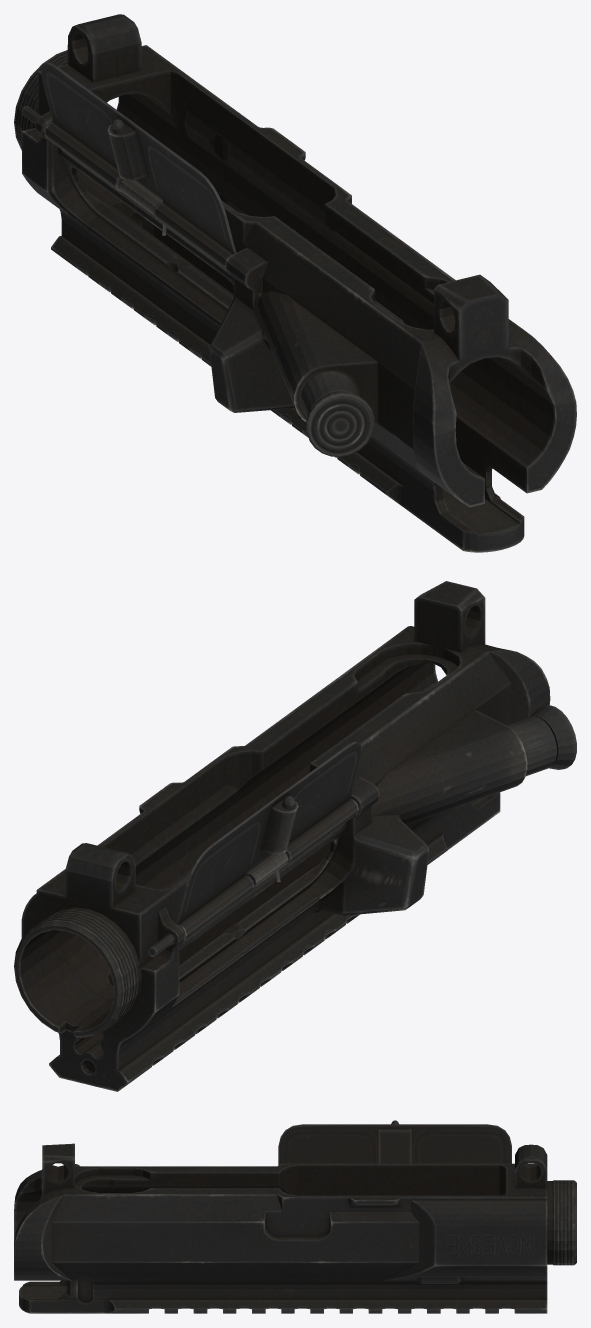
3 views of the same model, one above another, from view 1: azimuth 30°, elevation 25°; view 2: azimuth 150°, elevation 25°; view 3: azimuth 270°, elevation 25° (orthographic). The views are drawn at different scales.
Parts seen in each view (by area): view 1: TW_5c07a8770db8340023300450_PZ_Import; view 2: TW_5c07a8770db8340023300450_PZ_Import; view 3: TW_5c07a8770db8340023300450_PZ_Import.
Part boxes in pixels (x1=…): TW_5c07a8770db8340023300450_PZ_Import: x1=14, y1=14, x2=576, y2=552; TW_5c07a8770db8340023300450_PZ_Import: x1=14, y1=581, x2=576, y2=1091; TW_5c07a8770db8340023300450_PZ_Import: x1=14, y1=1120, x2=576, y2=1313.
Size of the model in its own units: 0.0325 by 0.1116 by 0.0337.
1 material, 1 textured.
